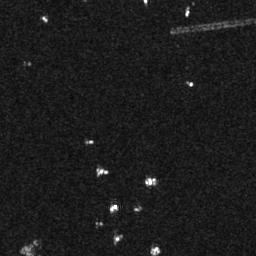ship: (144, 176, 156, 187), (96, 166, 109, 175), (109, 203, 119, 214), (150, 245, 160, 256), (112, 234, 123, 243), (42, 16, 48, 24), (185, 9, 189, 18)
